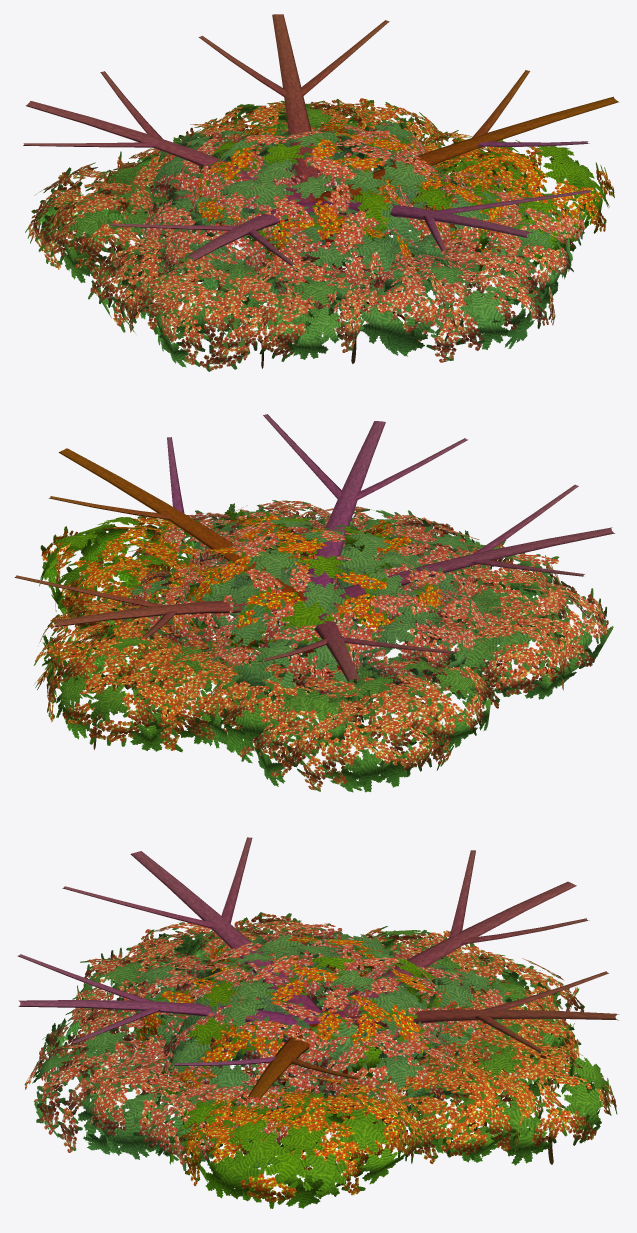
Rendered from flamboyan.glb.
3 renders of one model, top to bottom at view 1: azimuth 30°, elevation 25°; view 2: azimuth 150°, elevation 25°; view 3: azimuth 270°, elevation 25°, orthographic. The views are drawn at different scales.
Visible parts, largest first — view 1: flamboyan; view 2: flamboyan; view 3: flamboyan.
Boxes of the visible parts, left/top/right/bottom form: flamboyan: left=23, top=14, right=618, bottom=371; flamboyan: left=14, top=414, right=614, bottom=792; flamboyan: left=17, top=837, right=619, bottom=1208.
Bounding box in the file's own units: 12.27 × 3.45 × 12.01.
Materials: 2 (2 with a texture image).
